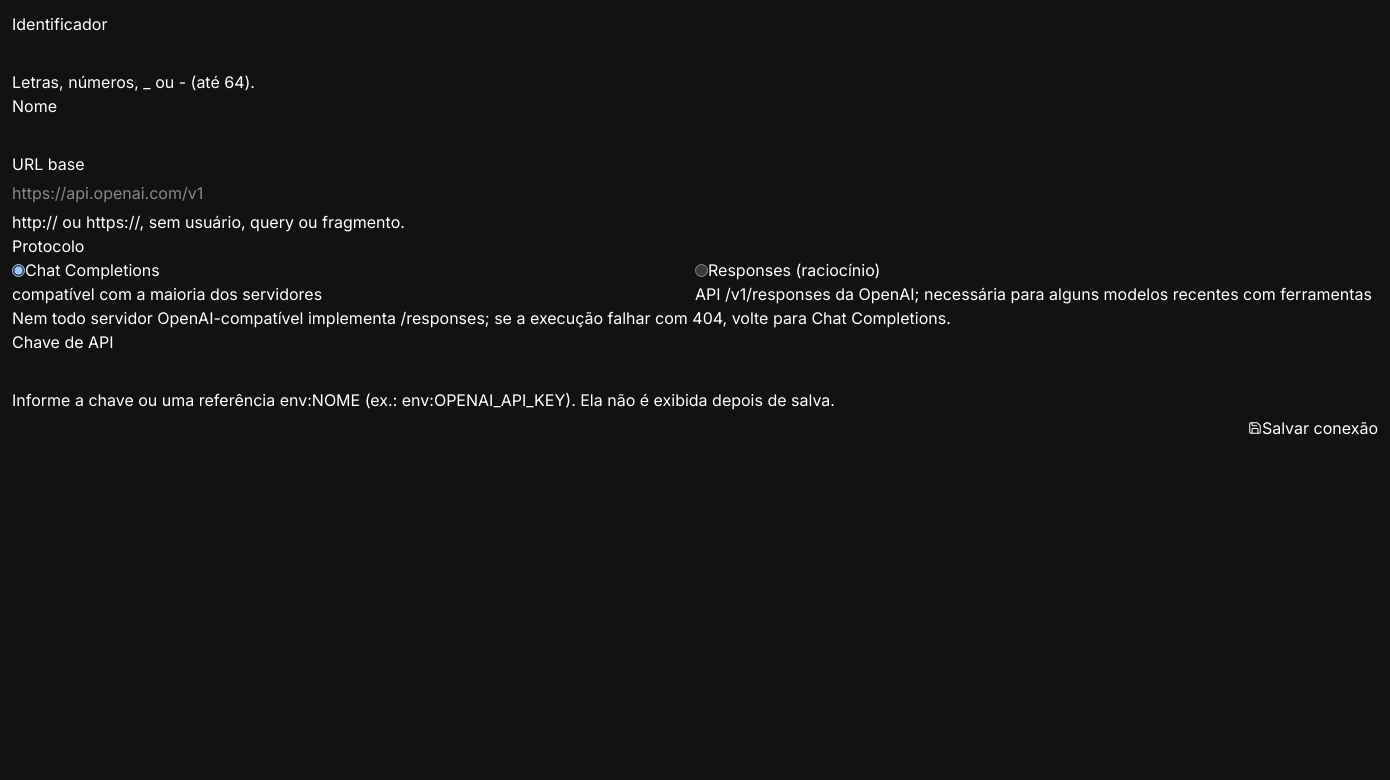
Conexões: formulário › valida no cliente antes de enviar
Type "https://u:p@x.com" into the field labelled "URL base".
click(695, 193); type("https://u:p@x.com")  # box x1=12 y1=176 x2=1378 y2=210
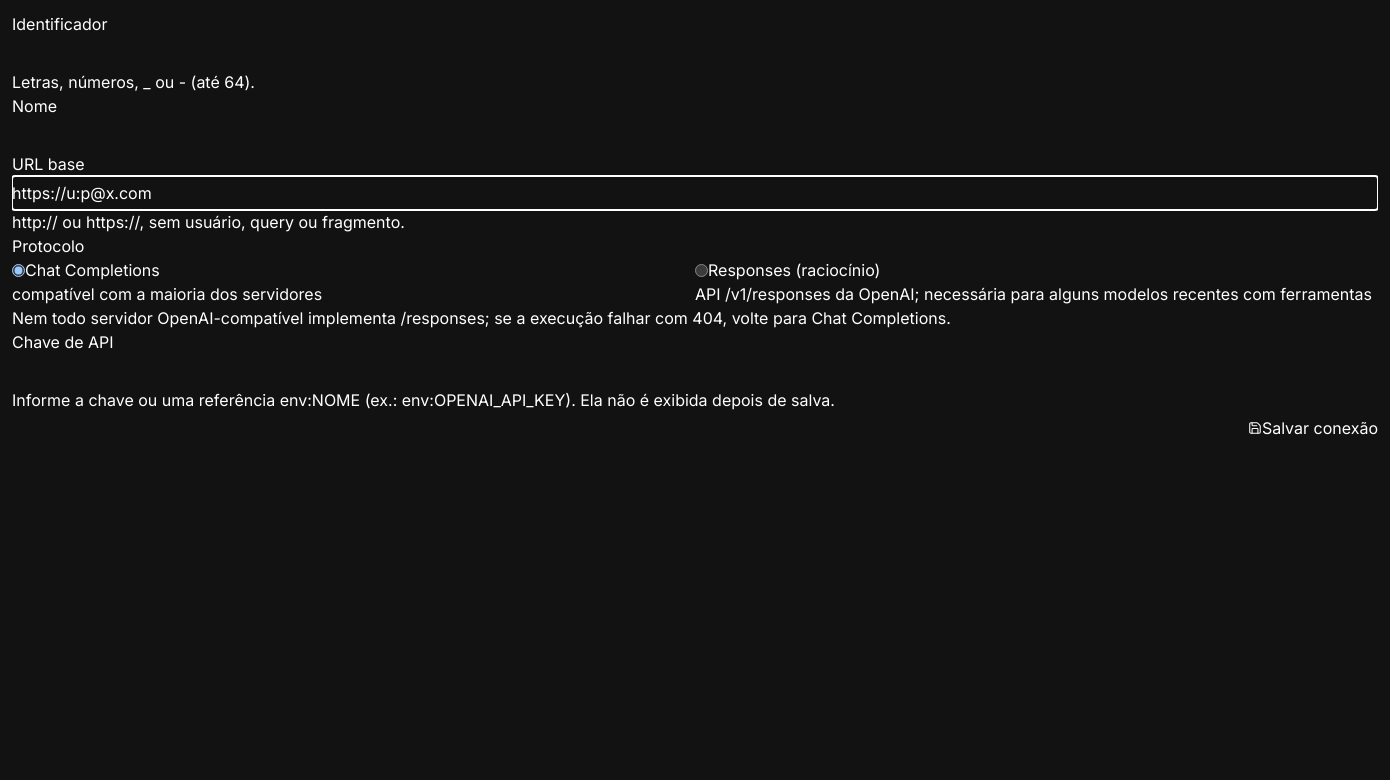
Click the button "Salvar conexão".
click(1313, 428)  # box x1=1248 y1=412 x2=1378 y2=444
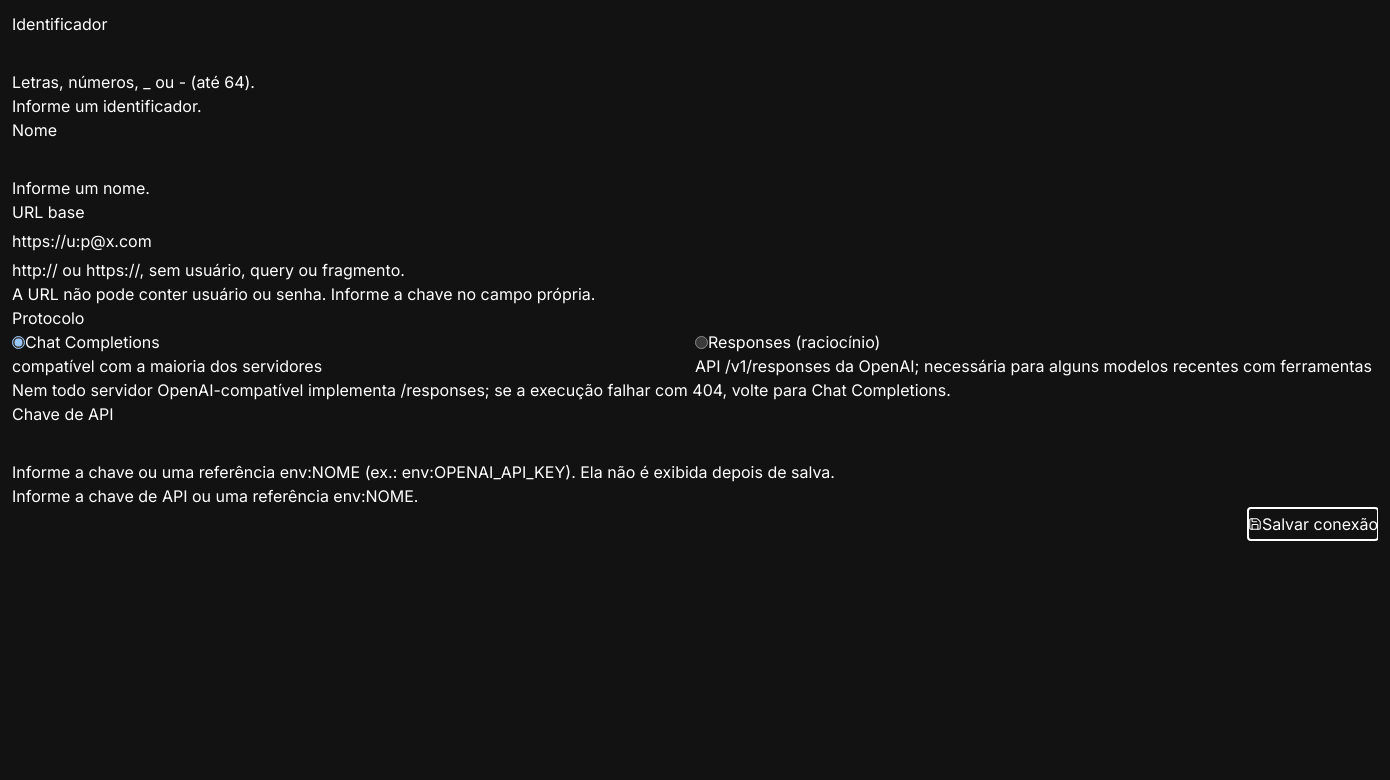
Result: the text "Informe um identificador." is shown at x1=12 y1=96 x2=202 y2=116
